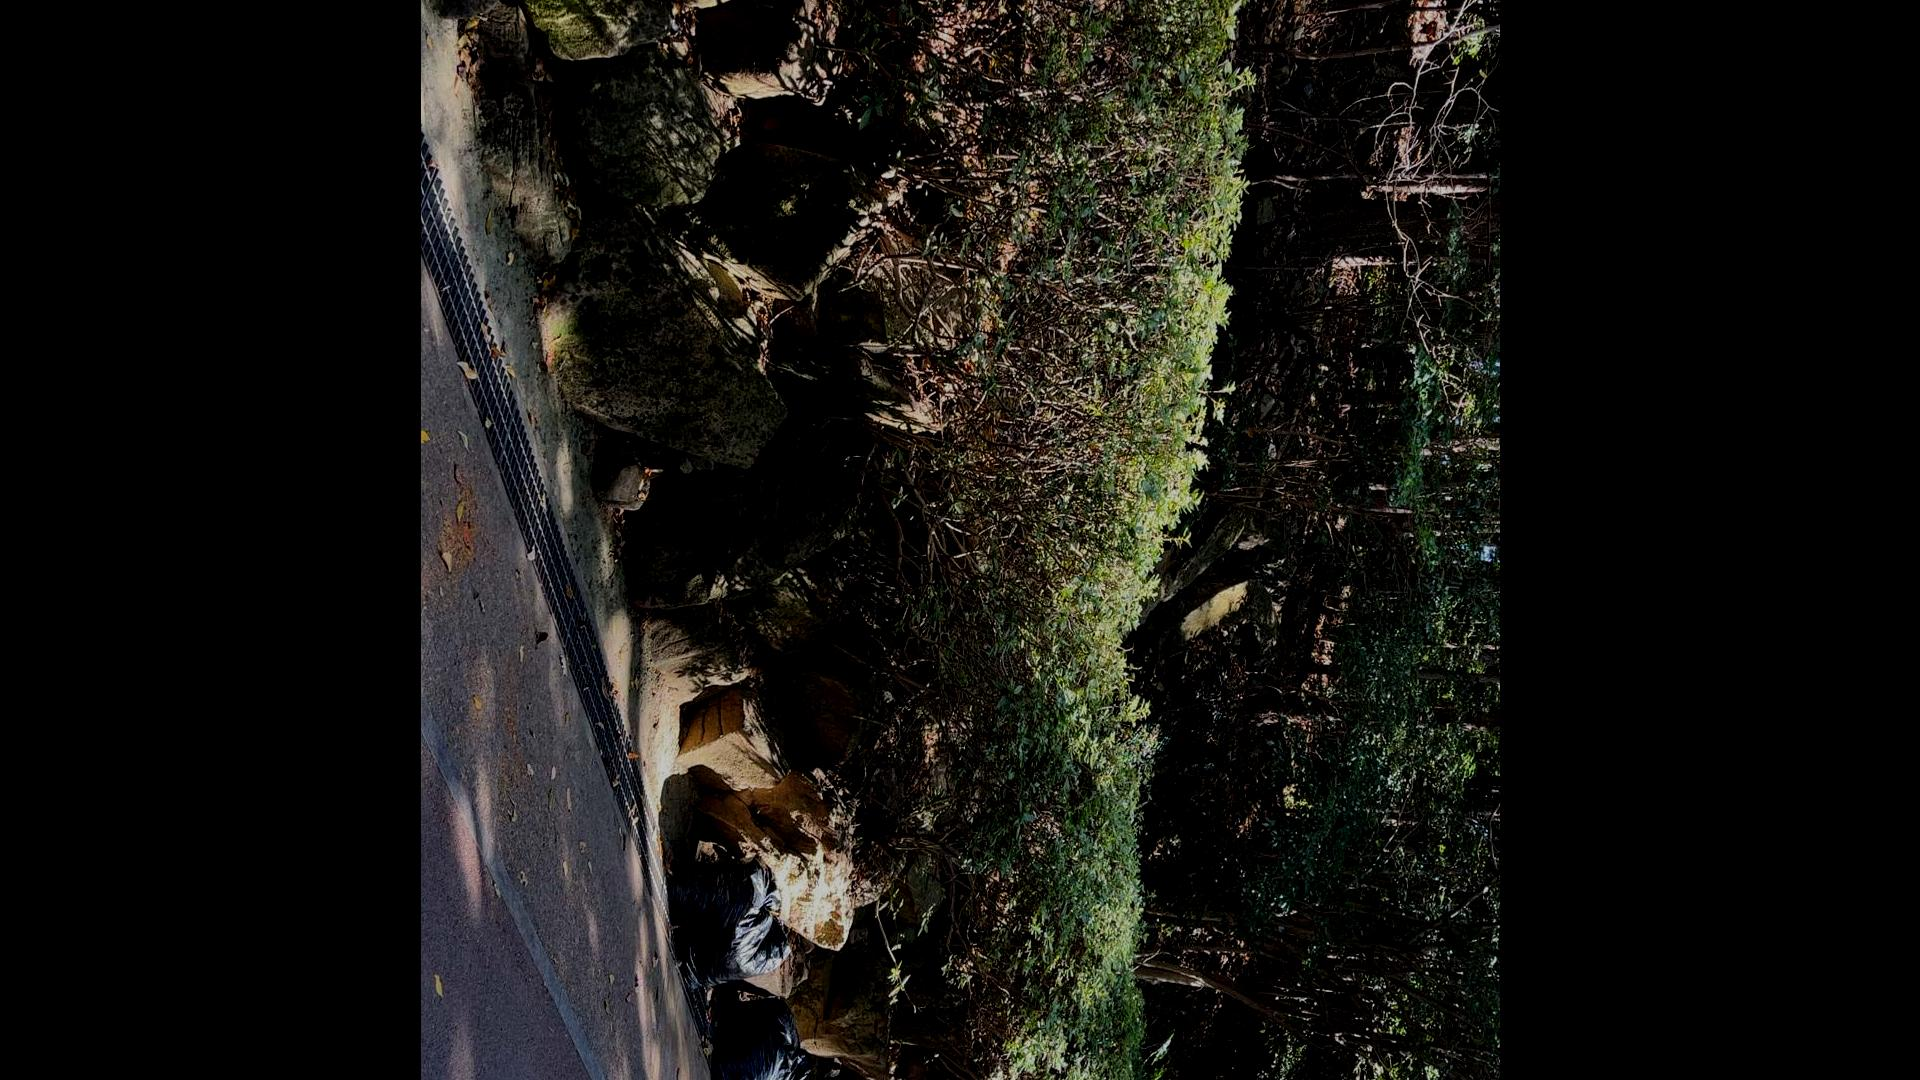black_bag: (670, 851, 796, 992), (708, 996, 814, 1080)
